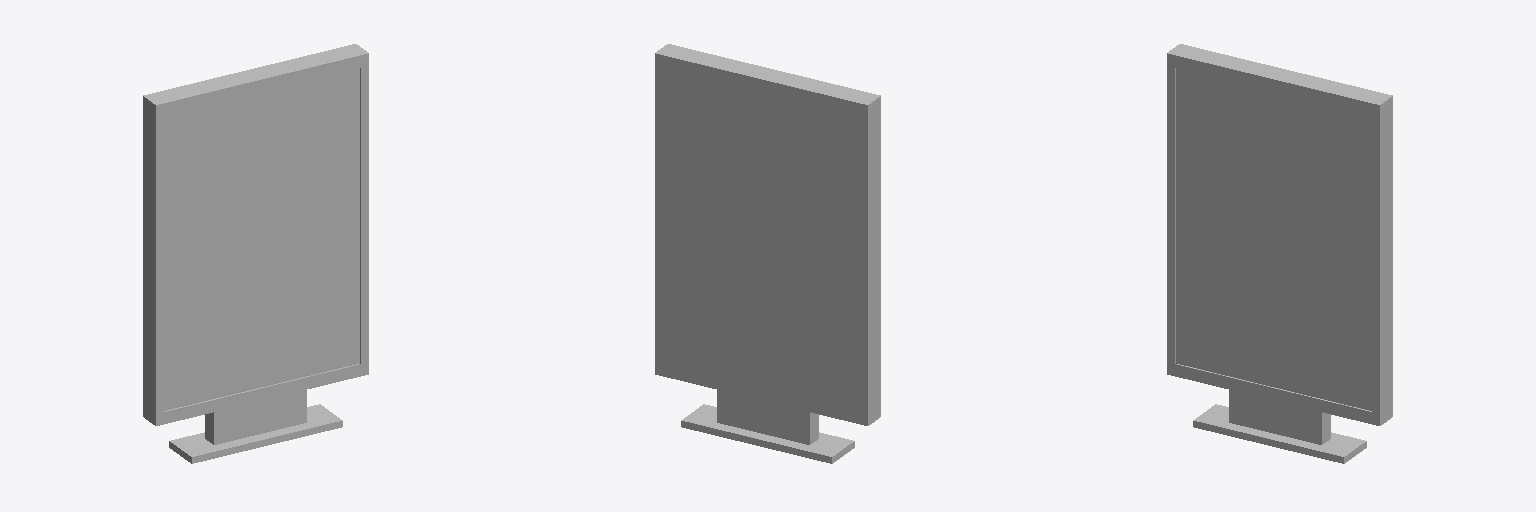
The model's file is Props_BillBoard_small.obj.
3 views of the same model, side by side, from view 1: azimuth 30°, elevation 25°; view 2: azimuth 150°, elevation 25°; view 3: azimuth 330°, elevation 25° (orthographic).
Parts seen in each view (by area): view 1: Props_BillBoard_small; view 2: Props_BillBoard_small; view 3: Props_BillBoard_small.
Boxes of the visible parts, box(x1,y1,x2,y2) form: Props_BillBoard_small: box(143, 44, 368, 463); Props_BillBoard_small: box(655, 44, 880, 463); Props_BillBoard_small: box(1167, 44, 1392, 463).
Bounding box in the file's own units: 63.55 × 103 × 11.55.